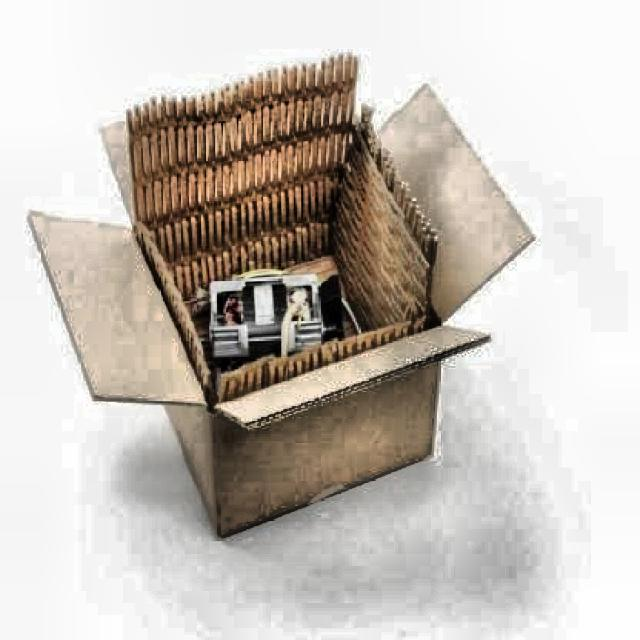Cardbox: (43, 33, 544, 551)
